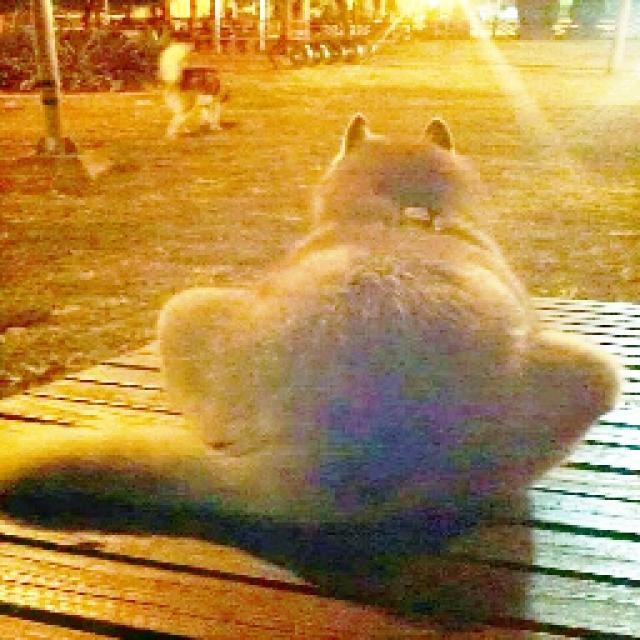cat: (0, 114, 623, 569)
